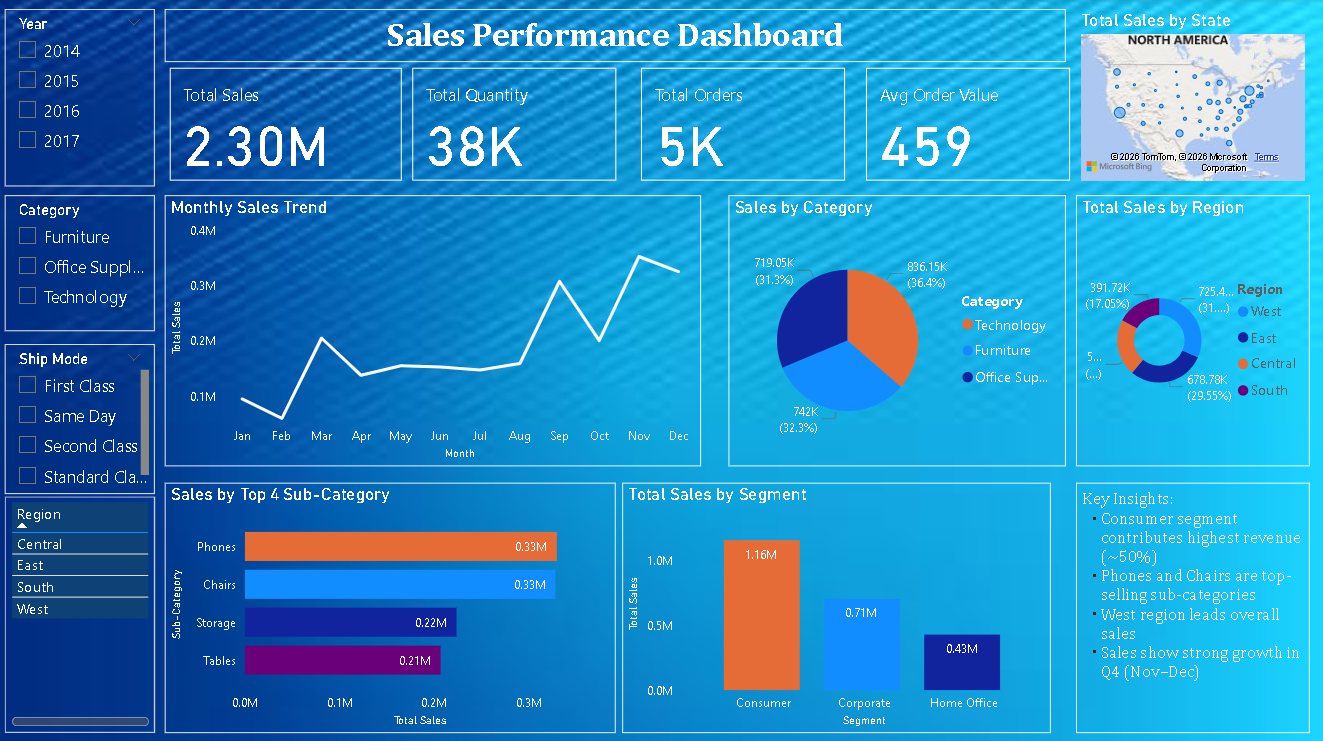

The dashboard page shown, as its layout file describes it:
{"tool":"powerbi","page":{"name":"Page 2","canvas":[1280,720],"ordinal":1},"visuals":[{"type":"cardVisual","fields":{"Data":["Orders.Total Sales"]},"box":[162.9,61.5,234,119.4],"z":0},{"type":"textbox","box":[162.8,9.7,869.6,51.5],"z":1},{"type":"cardVisual","fields":{"Data":["Orders.Total Orders"]},"box":[617.7,61.2,207.3,119.7],"z":2},{"type":"cardVisual","fields":{"Data":["Sum(Orders.Quantity)"]},"box":[396.5,61.2,207.3,119.7],"z":3},{"type":"cardVisual","fields":{"Data":["Orders.Avg Order Value"]},"box":[834.8,61.2,207.3,119.7],"z":4},{"type":"lineChart","title":"Monthly Sales Trend","fields":{"Category":["DateTable.Month"],"Y":["Orders.Total Sales"]},"box":[162.9,189.4,517.6,261.8],"z":5},{"type":"pieChart","title":"Sales by Category","fields":{"Category":["Orders.Category"],"Y":["Orders.Total Sales"]},"box":[707,189.4,325.7,261.8],"z":6},{"type":"map","fields":{"Category":["Orders.State"],"Size":["Orders.Total Sales"]},"box":[1042.4,9.7,225.6,171.3],"z":7},{"type":"clusteredBarChart","title":"Sales by Top 4 Sub-Category","fields":{"Y":["Orders.Total Sales"],"Category":["Orders.Sub-Category"]},"box":[162.9,466.9,435.5,241.3],"z":8},{"type":"columnChart","fields":{"Y":["Orders.Total Sales"],"Category":["Orders.Segment"]},"box":[604.4,466.9,413.8,241.3],"z":9},{"type":"donutChart","fields":{"Y":["Orders.Total Sales"],"Category":["Orders.Region"]},"box":[1042.4,189.4,225.6,261.8],"z":10},{"type":"slicer","fields":{"Values":["DateTable.Year"]},"box":[8.4,9.7,144.8,171.3],"z":11},{"type":"slicer","fields":{"Values":["Orders.Category"]},"box":[8.4,189.4,144.8,131.5],"z":12},{"type":"tableEx","fields":{"Values":["Orders.Region"]},"box":[8.4,480.2,144.8,228],"z":13},{"type":"textbox","box":[1042.4,466.9,225.6,241.3],"z":14},{"type":"slicer","fields":{"Values":["Orders.Ship Mode"]},"box":[8.4,333,144.8,144.8],"z":15}]}

Visuals, with their boxes in screenshot pixels (x1, y1, x2, y2), scaled from the page's 1280x720 canvas onto the 1323x741 screenshot:
cardVisual - Orders.Total Sales: (168,63,410,186)
textbox: (168,10,1067,63)
cardVisual - Orders.Total Orders: (638,63,853,186)
cardVisual - Sum(Orders.Quantity): (410,63,624,186)
cardVisual - Orders.Avg Order Value: (863,63,1077,186)
"Monthly Sales Trend" lineChart: (168,195,703,464)
"Sales by Category" pieChart: (731,195,1067,464)
map - Orders.State x Orders.Total Sales: (1077,10,1311,186)
"Sales by Top 4 Sub-Category" clusteredBarChart: (168,481,619,729)
columnChart - Orders.Total Sales x Orders.Segment: (625,481,1052,729)
donutChart - Orders.Total Sales x Orders.Region: (1077,195,1311,464)
slicer - DateTable.Year: (9,10,158,186)
slicer - Orders.Category: (9,195,158,330)
tableEx - Orders.Region: (9,494,158,729)
textbox: (1077,481,1311,729)
slicer - Orders.Ship Mode: (9,343,158,492)
